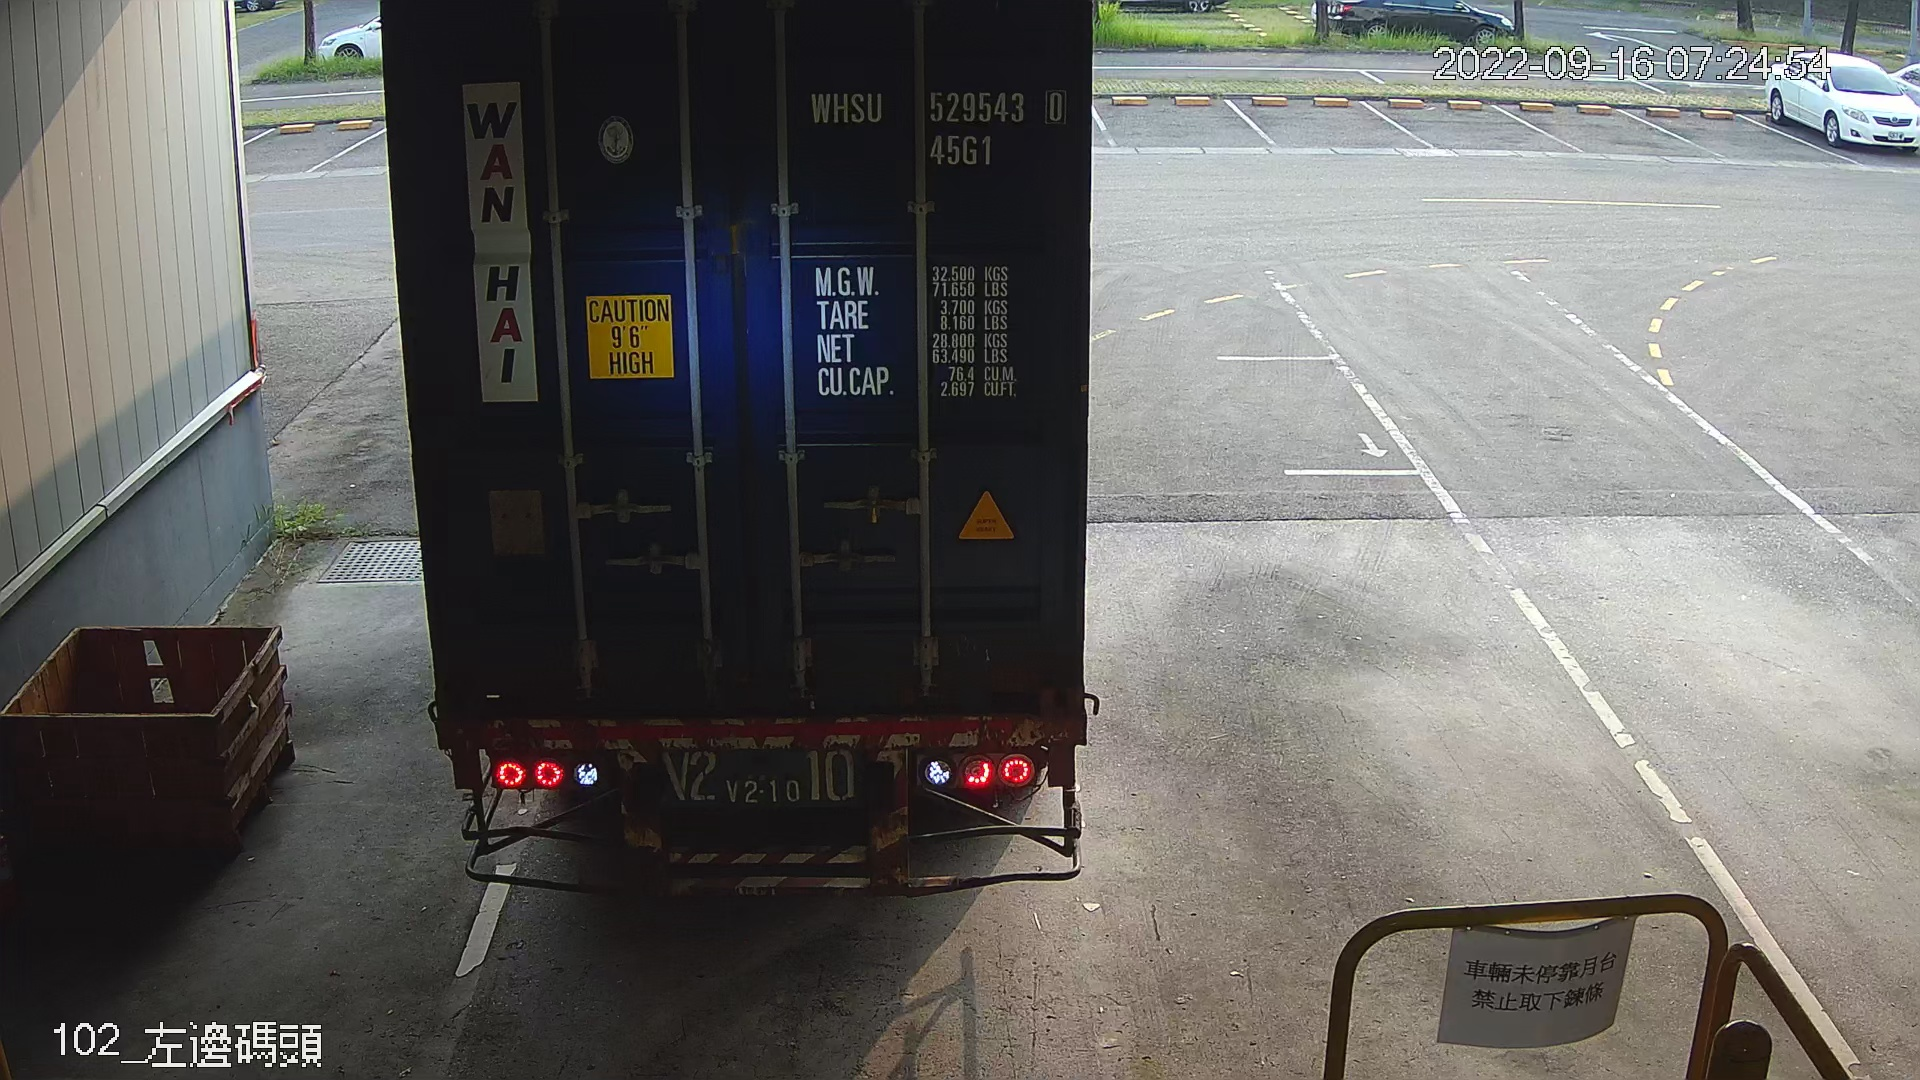container: (803, 74, 1079, 173)
